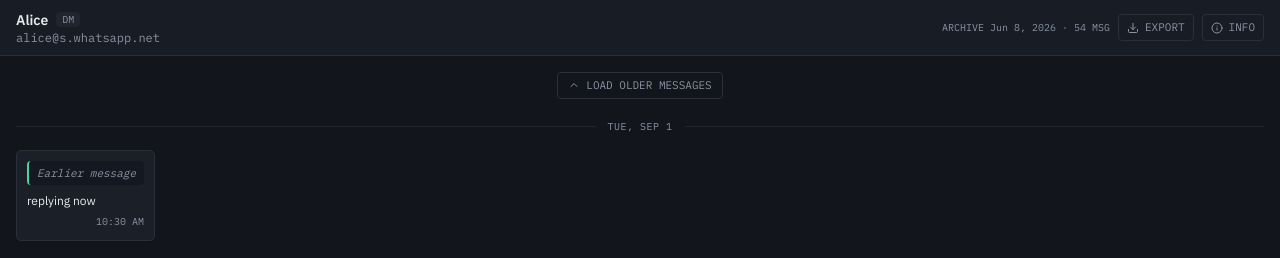
Scenario: ThreadView reply quotes › says when the quoted message is not in the archive, instead of jumping
Click the button "Earlier message": {"x": 86, "y": 172} [27,160,144,184]
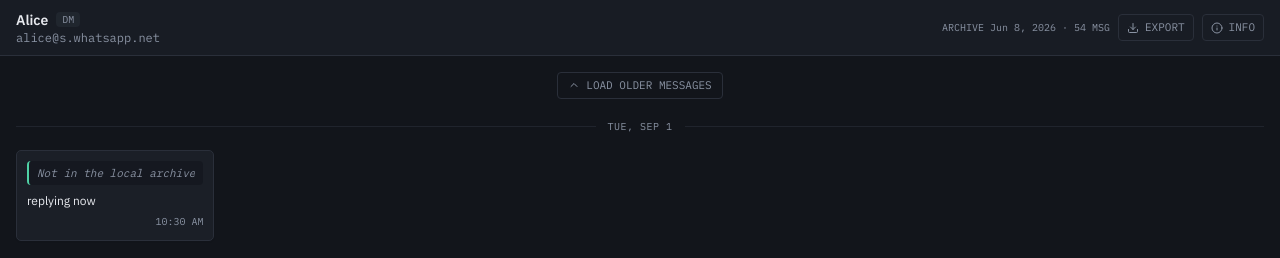
Expected: the text "Not in the local archive" is shown, [37,164,195,180]
Expected: the button "Not in the local archive" is disabled, [27,160,203,184]
